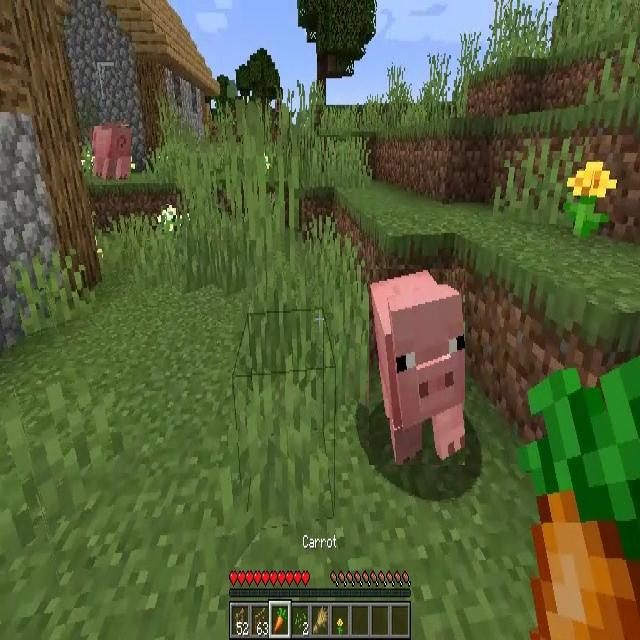flower: (568, 161, 618, 237), (161, 205, 177, 239)
pig: (370, 269, 466, 465), (92, 126, 131, 182)
